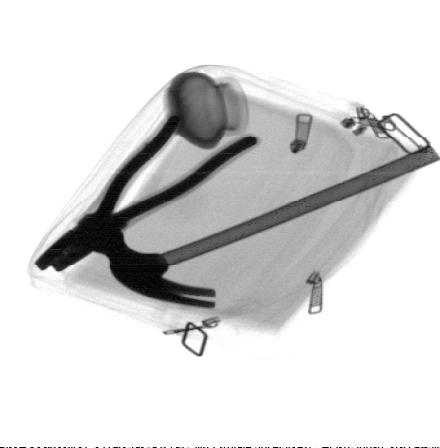Hammer: (72, 144, 439, 308)
Pliers: (36, 111, 262, 273)
